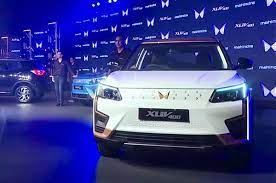XUV 400: (90, 38, 255, 171)
